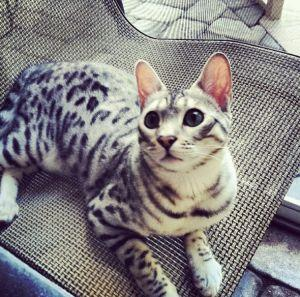bengal: (122, 50, 250, 179)
